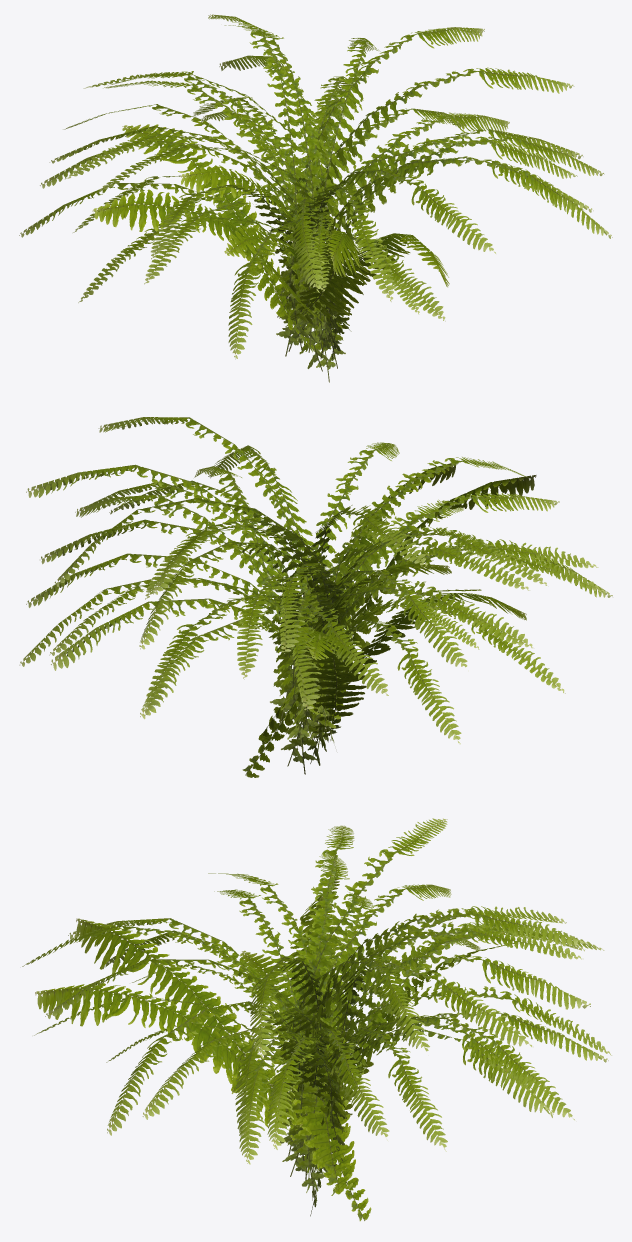
The model's file is Fern_01.fbx.
The picture shows the model from 3 angles, top to bottom: view 1: azimuth 30°, elevation 25°; view 2: azimuth 150°, elevation 25°; view 3: azimuth 270°, elevation 25°; orthographic projection. The views are drawn at different scales.
Parts seen in each view (by area): view 1: pasted__polySurface97.001; view 2: pasted__polySurface97.001; view 3: pasted__polySurface97.001.
Part boxes in pixels (x1,y1,x2,y2): pasted__polySurface97.001: (19,14,612,382); pasted__polySurface97.001: (19,417,612,777); pasted__polySurface97.001: (22,818,611,1221).
Size of the model in its own units: 121 by 71.92 by 120.
Materials: 1 (1 with a texture image).
